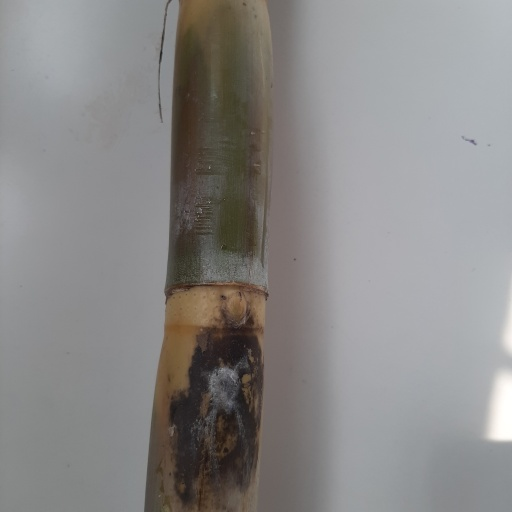Bud: (223, 290, 249, 328)
